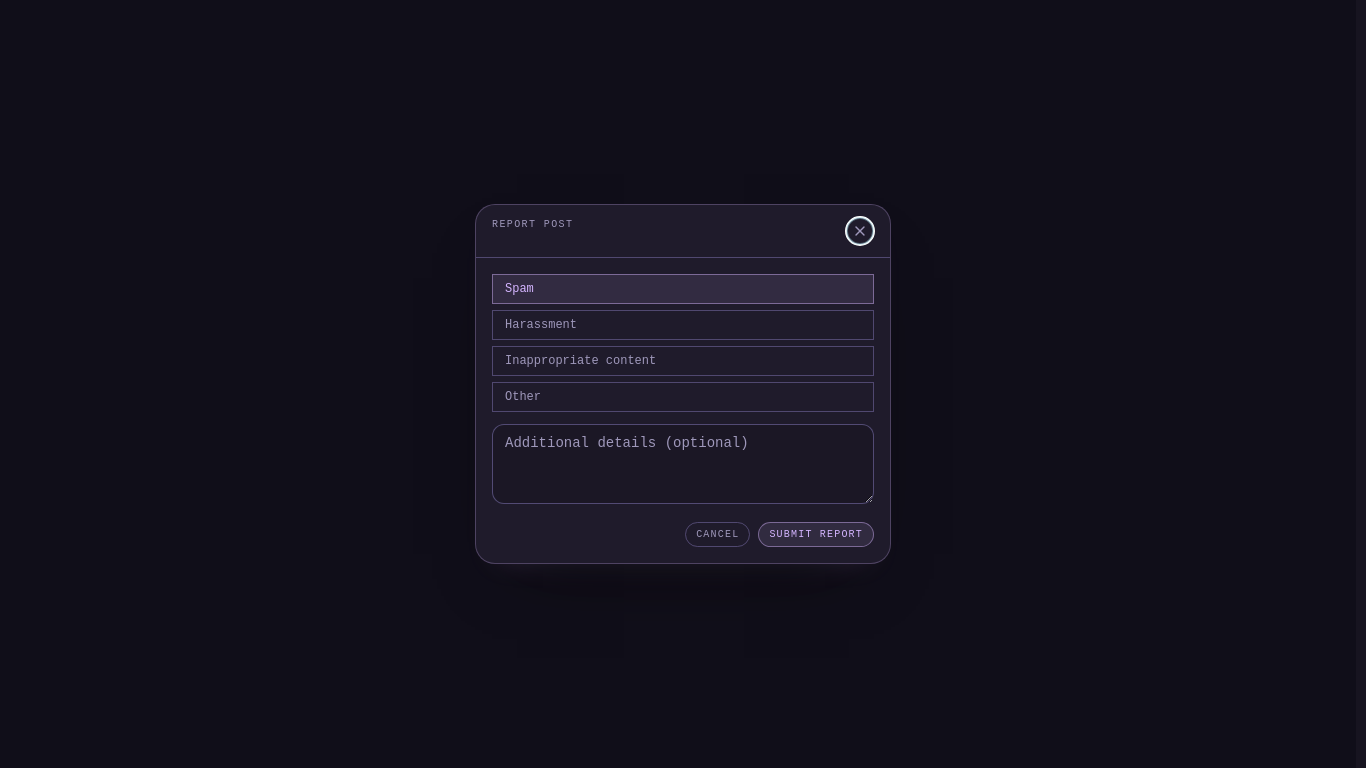
Test: ReportContentDialog › shows the server's error message and stays open when the submission fails
Click the button "submit report". click: click(816, 534)
box: [758, 522, 874, 547]
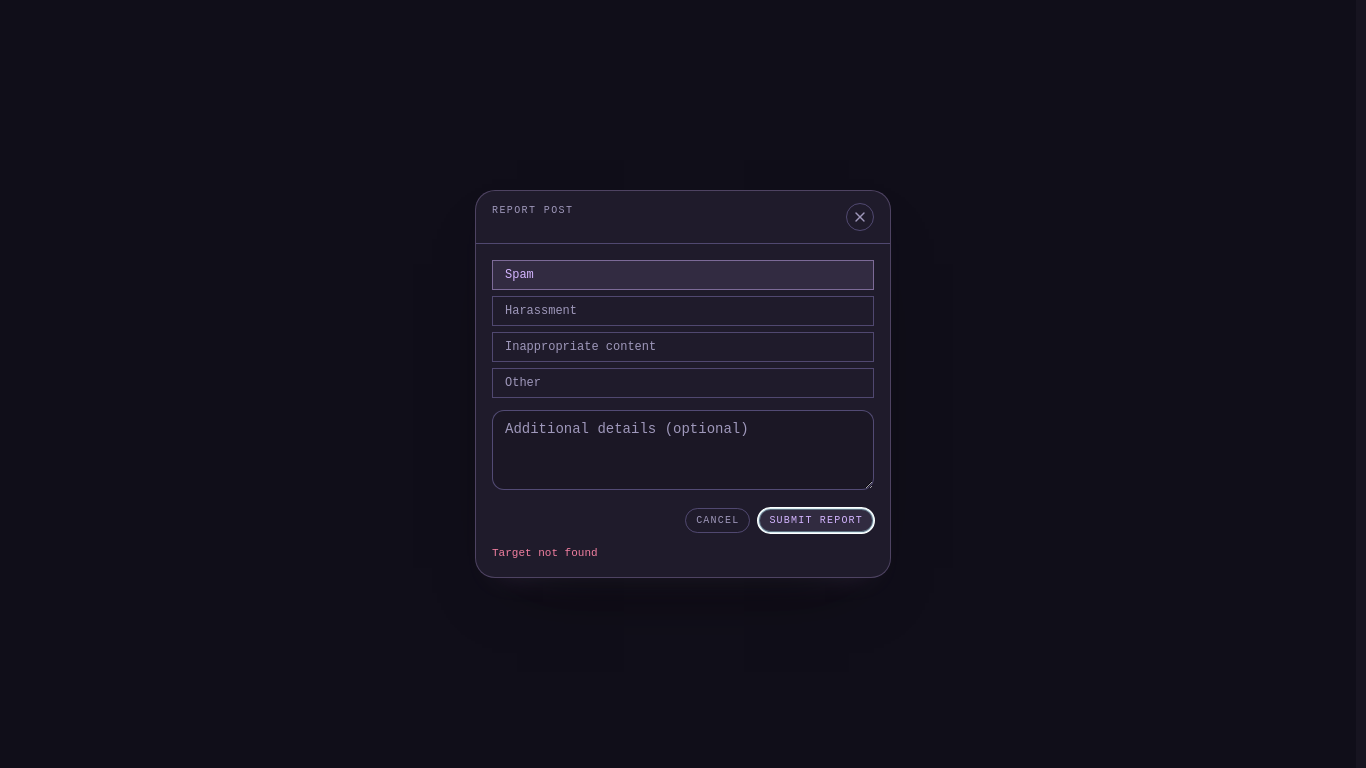
Expected: the message reads "Target not found", [492, 547, 598, 559]
